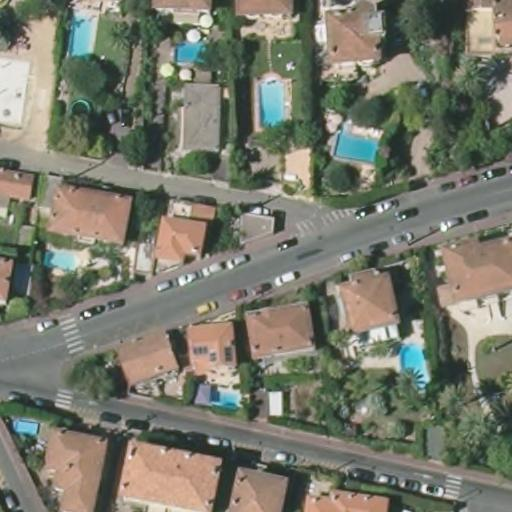pool: (333, 124, 387, 166), (256, 76, 289, 132), (399, 340, 434, 389), (68, 10, 98, 58), (43, 246, 87, 277), (171, 39, 217, 66), (205, 383, 246, 411), (11, 417, 40, 436)
